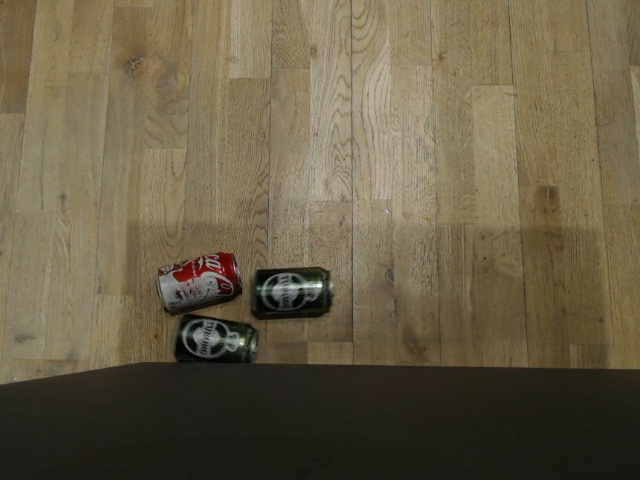beer: (247, 260, 339, 321), (170, 313, 259, 365)
cola: (150, 246, 242, 307)
